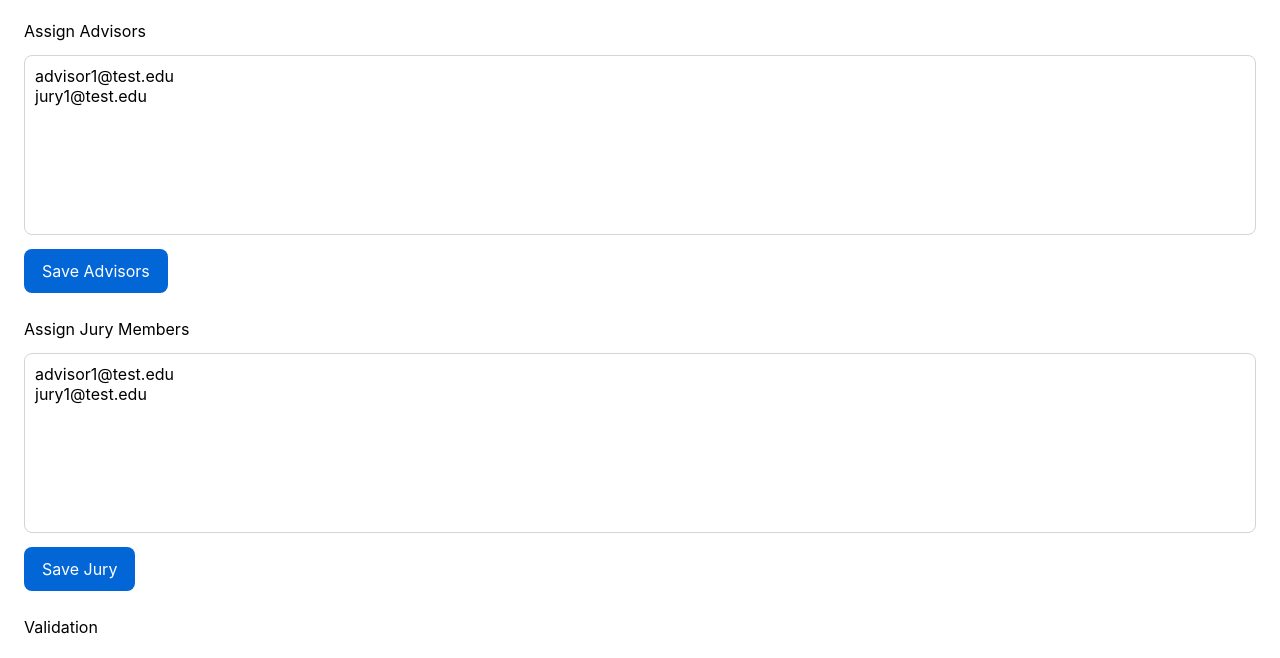
Test case: CommitteeManagementTab › shows an error when saving jury members with no selection
(page scrolled)
Step 1. Click the button "Save Jury" → click(80, 569), box [24,547,135,591]
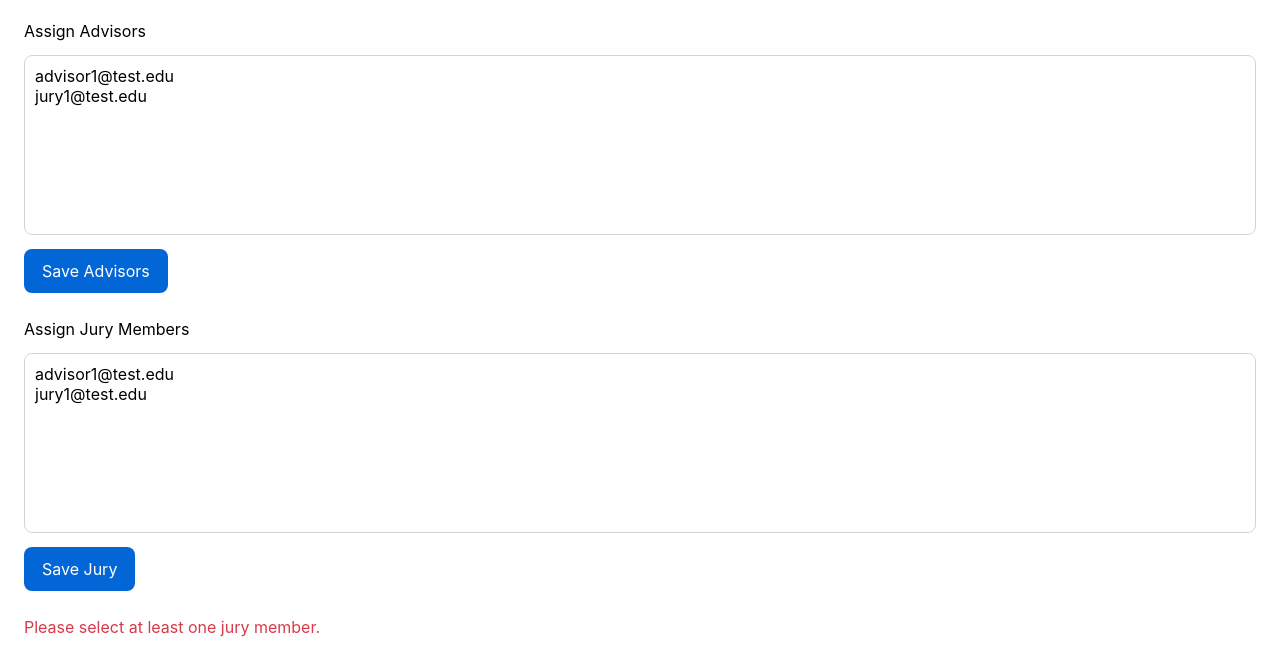
Expected: the text "Please select at least one jury member." is shown, [24,617,320,637]
